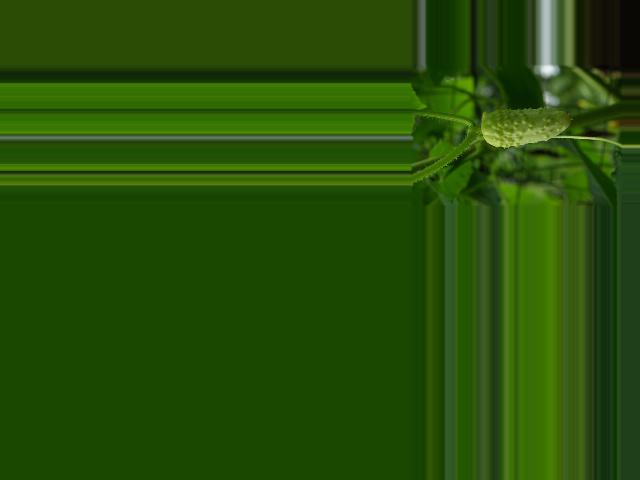cucumber: (480, 108, 573, 148)
